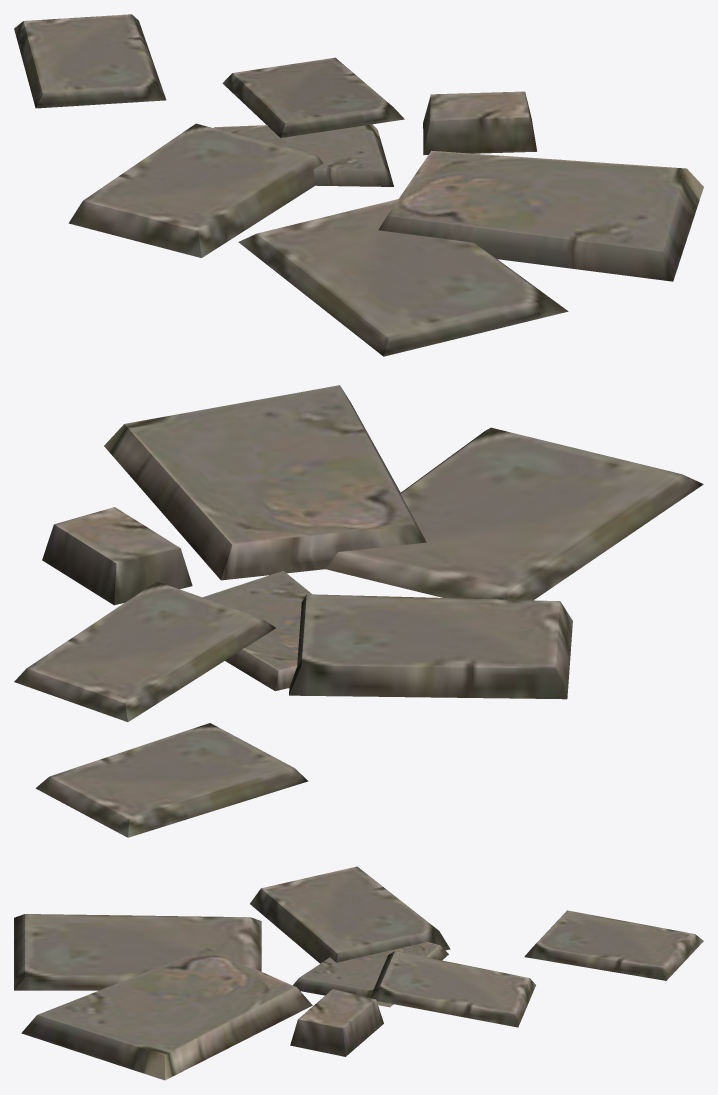
Rendered from zhuan06.FBX.
3 views of the same model, one above another, from view 1: azimuth 30°, elevation 25°; view 2: azimuth 150°, elevation 25°; view 3: azimuth 270°, elevation 25° (orthographic). The views are drawn at different scales.
Parts seen in each view (by area): view 1: Box047; view 2: Box047; view 3: Box047.
Part boxes in pixels (x1,y1,x2,y2): Box047: (14,14,703,356); Box047: (14,385,703,837); Box047: (14,866,703,1080).
Bounding box in the file's own units: 176 × 11.57 × 254.
